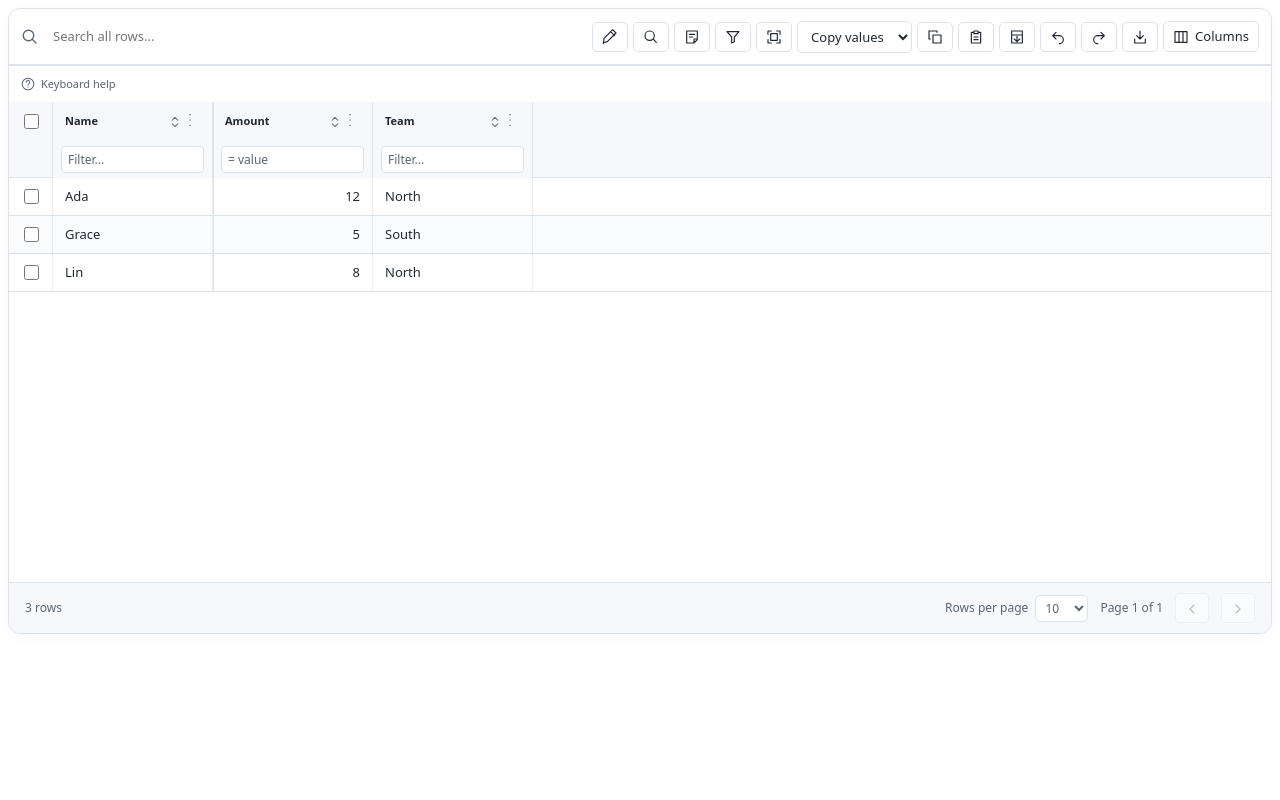
React DataGrid › applies quick and column filters and renders the empty state
Step 1. Type "ada" into the field named "Filter Name" → (132, 159), box left=61, top=146, right=204, bottom=172
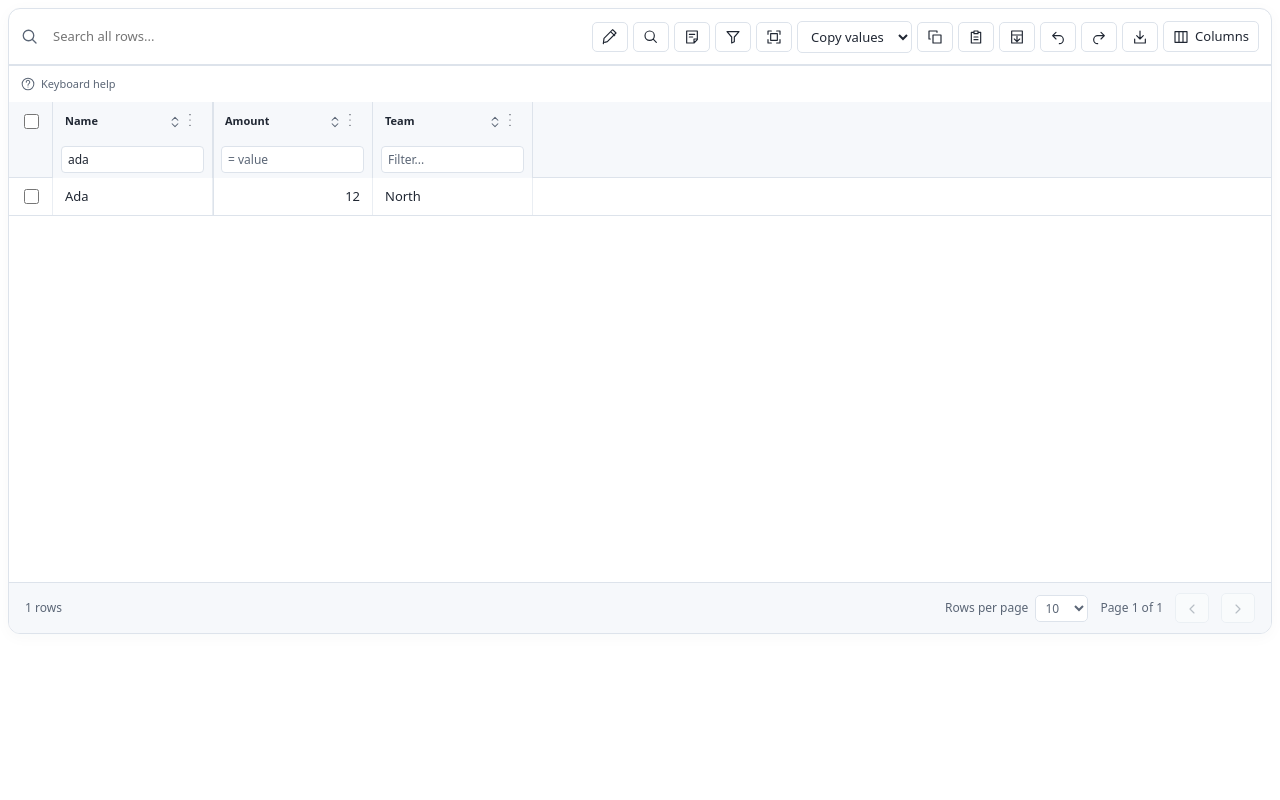
Step 2. Type "unknown" into the field labelled "Search all rows" → (174, 36), box left=47, top=21, right=301, bottom=52
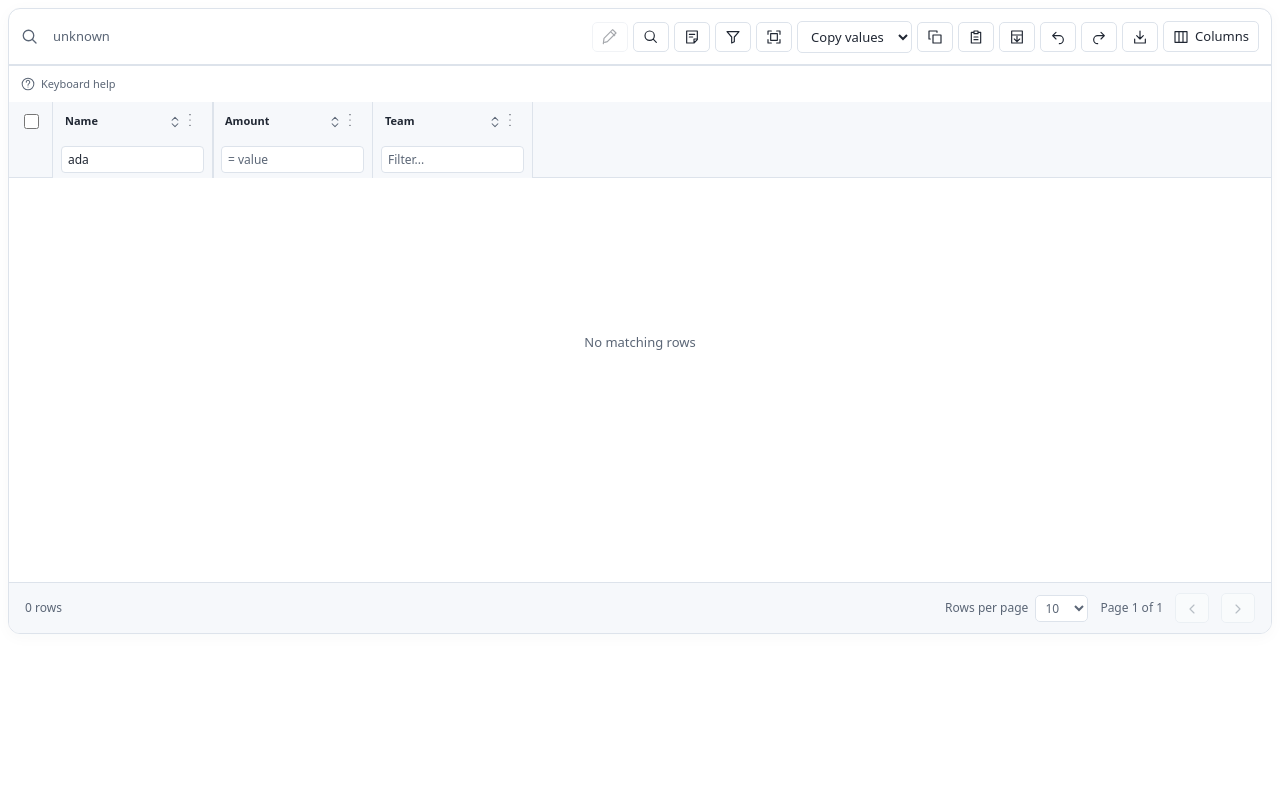
Check: the text "No matching rows" is shown, box left=584, top=333, right=696, bottom=351
